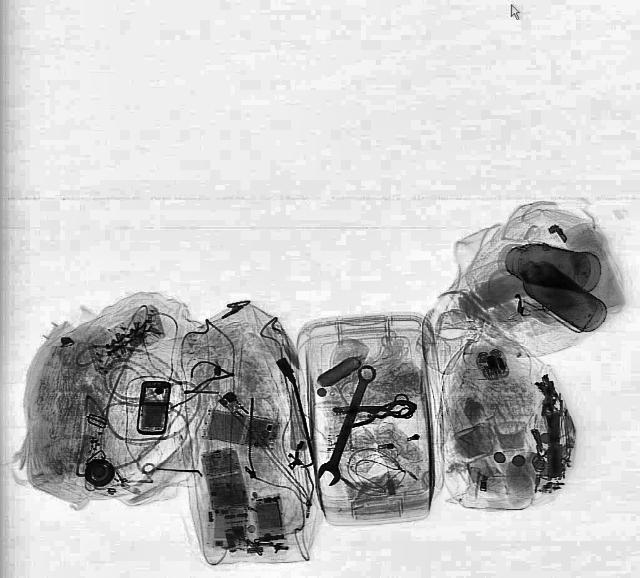Wrench: (313, 363, 379, 487)
